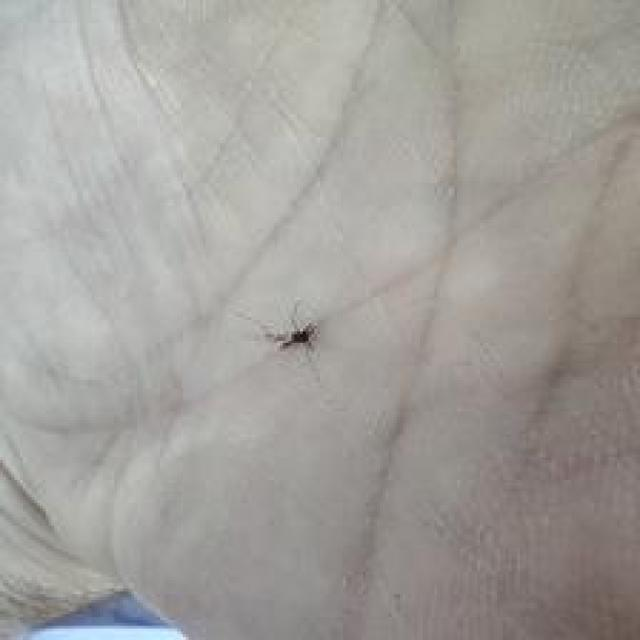Aedes albopictus: (266, 317, 320, 354)
